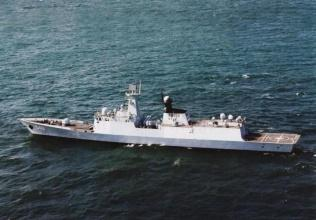warship: (11, 79, 302, 158)
